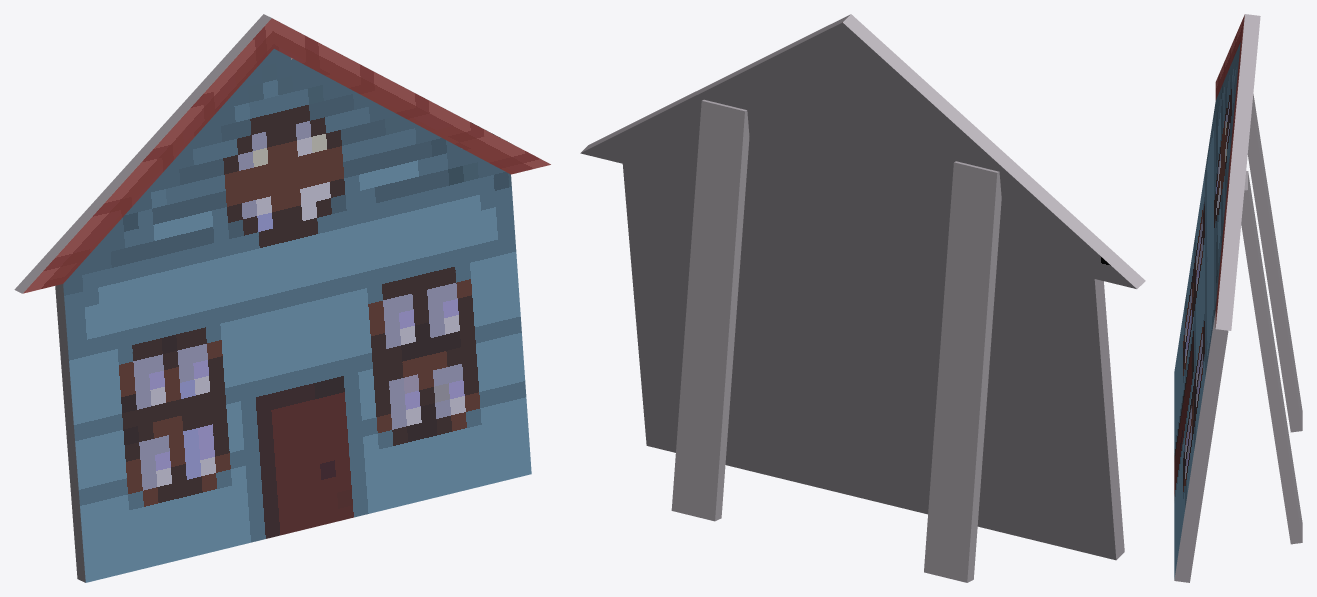
The model's file is FakeHome003.fbx.
3 views of the same model, side by side, from view 1: azimuth 30°, elevation 25°; view 2: azimuth 150°, elevation 25°; view 3: azimuth 270°, elevation 25° (orthographic). The views are drawn at different scales.
Visible parts, largest first — view 1: Cube.009; view 2: Cube.009; view 3: Cube.009.
Part boxes in pixels (x1,y1,x2,y2): Cube.009: [14, 14, 550, 582]; Cube.009: [580, 14, 1145, 582]; Cube.009: [1174, 14, 1302, 582].
Size of the model in its own units: 616 by 540 by 135.
Materials: 1 (1 with a texture image).
